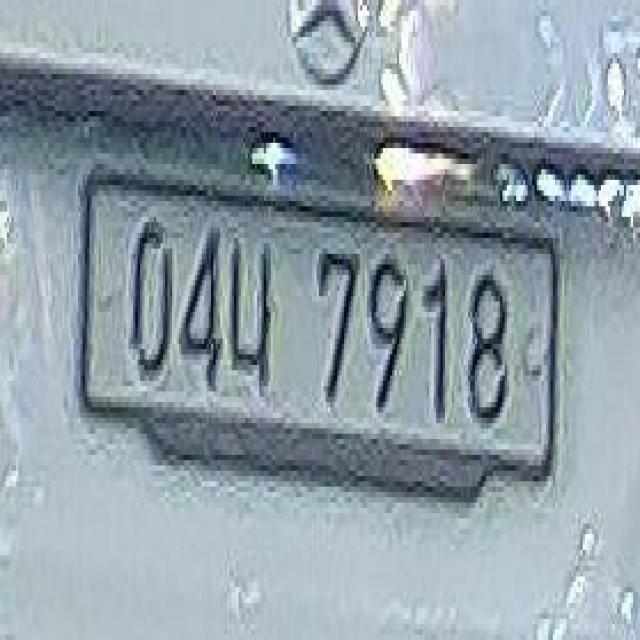illegal_plate: (82, 156, 557, 516)
